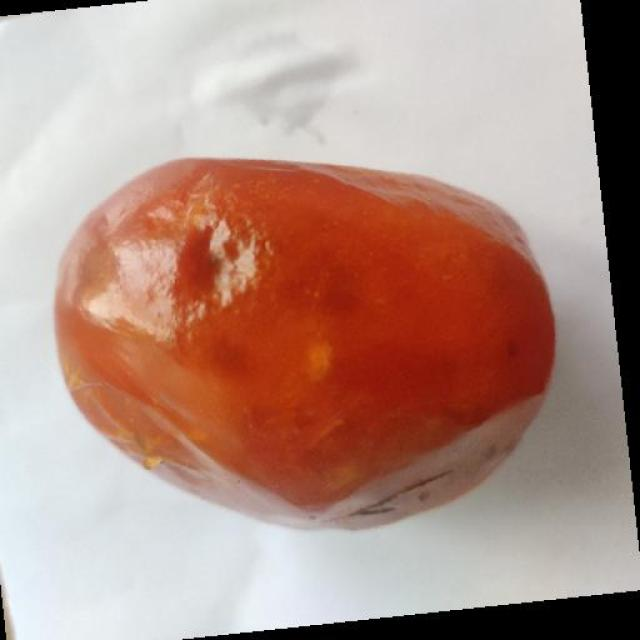Stale_tomato: (61, 160, 542, 551)
